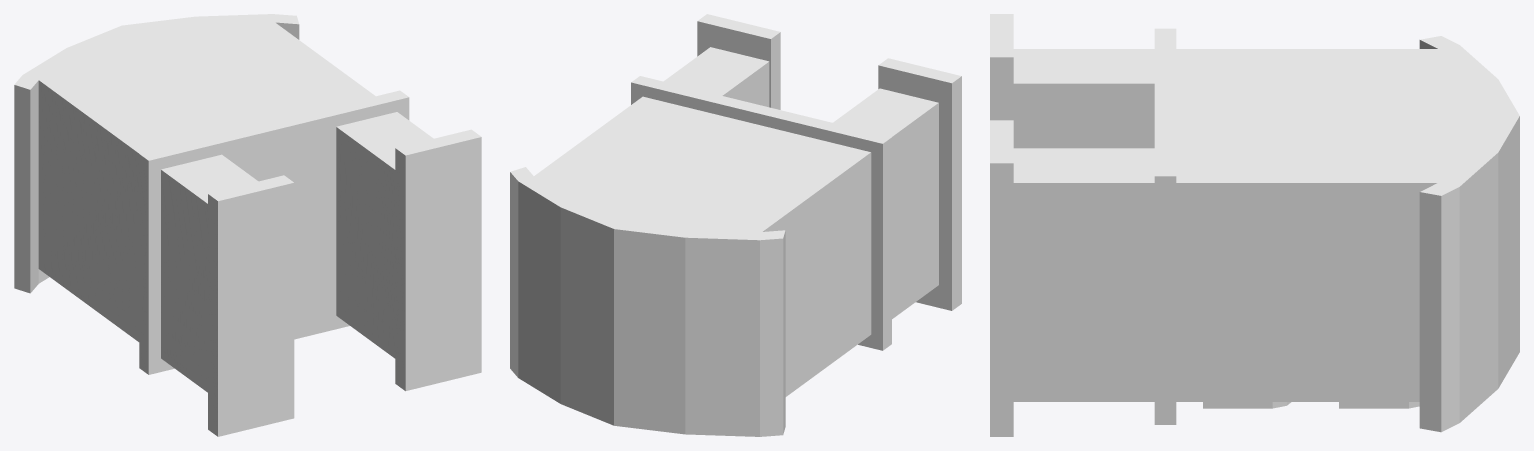
File: venice_building_0.fbx
3 renders of one model, left to right at view 1: azimuth 30°, elevation 25°; view 2: azimuth 150°, elevation 25°; view 3: azimuth 270°, elevation 25°, orthographic. The views are drawn at different scales.
Parts seen in each view (by area): view 1: Cube.267; view 2: Cube.267; view 3: Cube.267.
Boxes of the visible parts, left/top/right/bottom form: Cube.267: left=14, top=14, right=481, bottom=436; Cube.267: left=510, top=14, right=961, bottom=436; Cube.267: left=990, top=14, right=1519, bottom=436.
Size of the model in its own units: 1086 by 865 by 1518.
